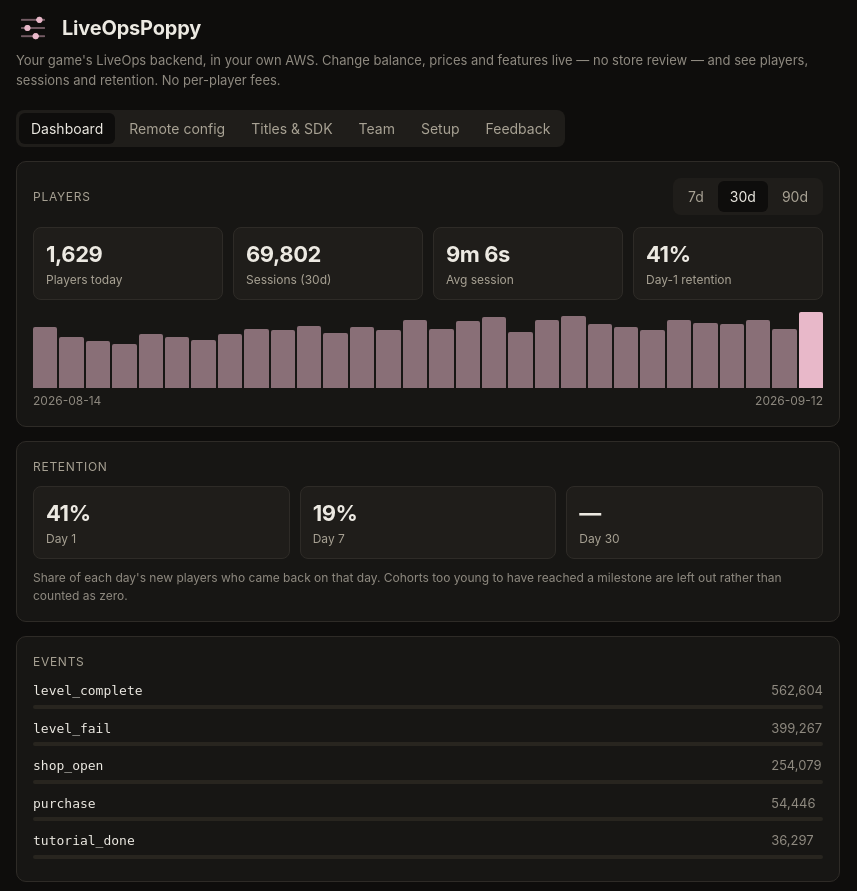
App › shows NO demo data before the first status read answers
The image size is (857, 891).
expect the text "Sunken Keep" is not shown: met
Click the button "Titles & SDK" at (292, 128), box [239,113,344,144]
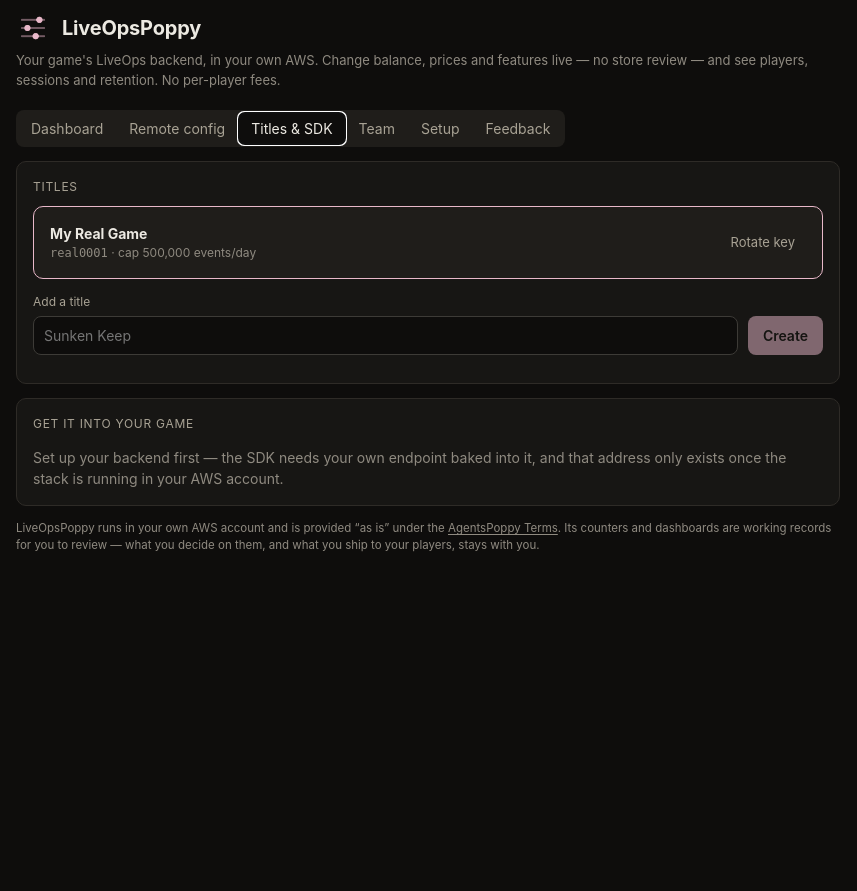
expect the text "My Real Game" is shown: met, box [50,225,147,242]
